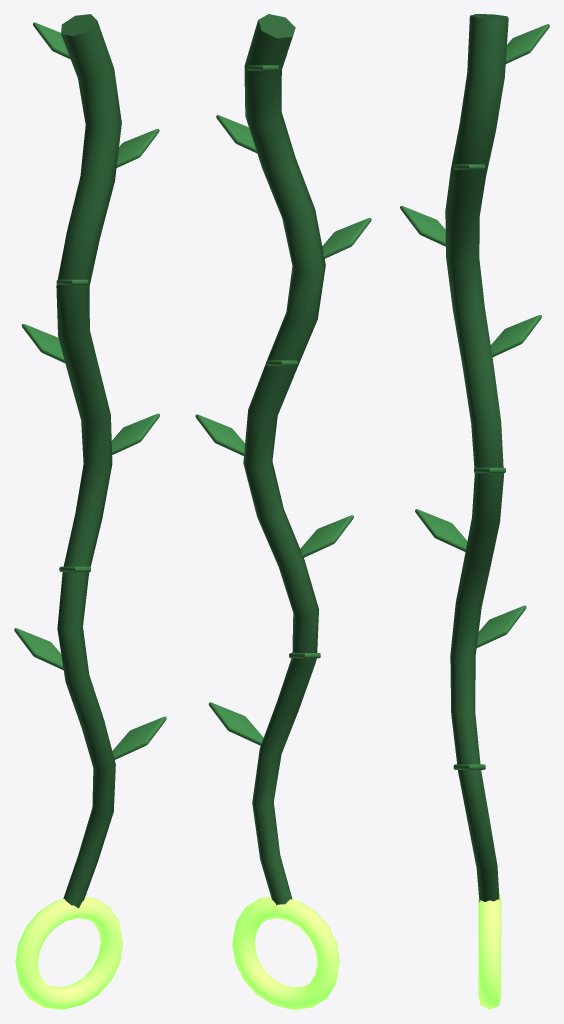
File: Liana.fbx
The picture shows the model from 3 angles, left to right: view 1: azimuth 30°, elevation 25°; view 2: azimuth 150°, elevation 25°; view 3: azimuth 270°, elevation 25°; orthographic projection.
Parts seen in each view (by area): view 1: Liana_Tallo, Liana_Agarre_Neon, Liana_Hojas; view 2: Liana_Tallo, Liana_Agarre_Neon, Liana_Hojas; view 3: Liana_Tallo, Liana_Hojas, Liana_Agarre_Neon.
Boxes of the visible parts, x1,y1,x2,y2 form: Liana_Tallo: (56, 14, 121, 908); Liana_Agarre_Neon: (15, 896, 123, 1009); Liana_Hojas: (14, 22, 166, 759); Liana_Tallo: (243, 14, 325, 905); Liana_Agarre_Neon: (232, 896, 339, 1009); Liana_Hojas: (195, 65, 371, 745); Liana_Tallo: (445, 14, 508, 902); Liana_Hojas: (400, 24, 549, 769); Liana_Agarre_Neon: (478, 891, 501, 1009).
Bounding box in the file's own units: 1.84 × 12.03 × 1.64.
